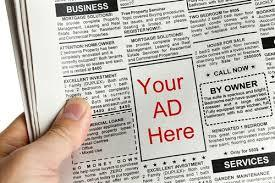Printing industry: (1, 5, 275, 183)
